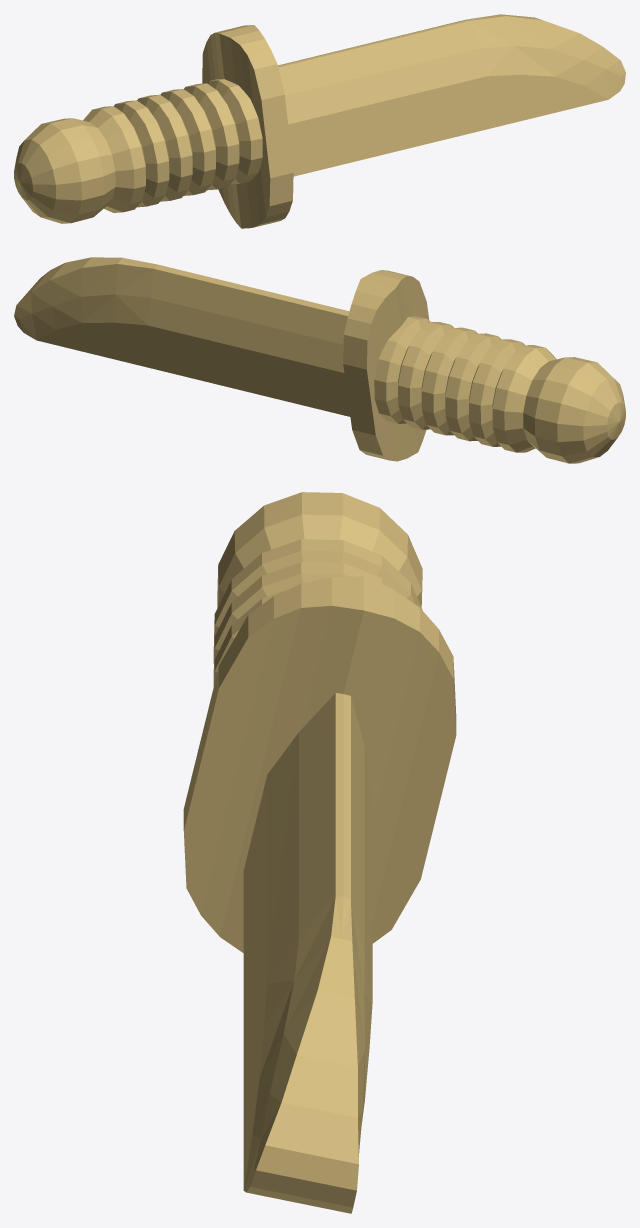
The model's file is Knife.fbx.
The picture shows the model from 3 angles, top to bottom: view 1: azimuth 30°, elevation 25°; view 2: azimuth 150°, elevation 25°; view 3: azimuth 270°, elevation 25°; orthographic projection. The views are drawn at different scales.
Parts seen in each view (by area): view 1: MB_5-material.034; view 2: MB_5-material.034; view 3: MB_5-material.034.
Part boxes in pixels (x1,y1,x2,y2): MB_5-material.034: (14,14,625,228); MB_5-material.034: (14,257,625,463); MB_5-material.034: (183,492,456,1213).
Size of the model in its own units: 164 by 48.18 by 32.88.
